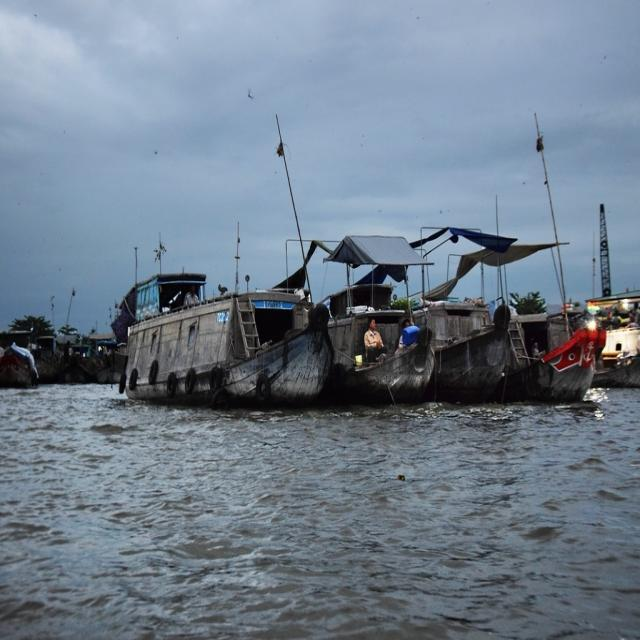boat: (120, 272, 339, 412), (333, 297, 440, 398)
